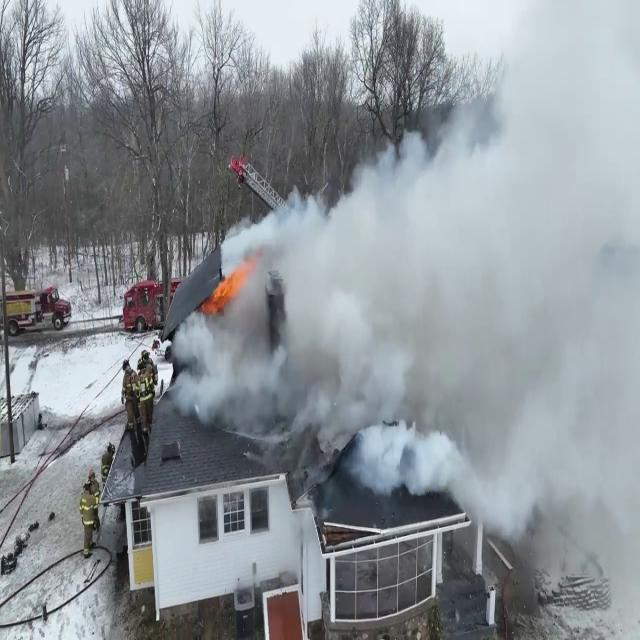Smoke: (171, 17, 640, 502)
